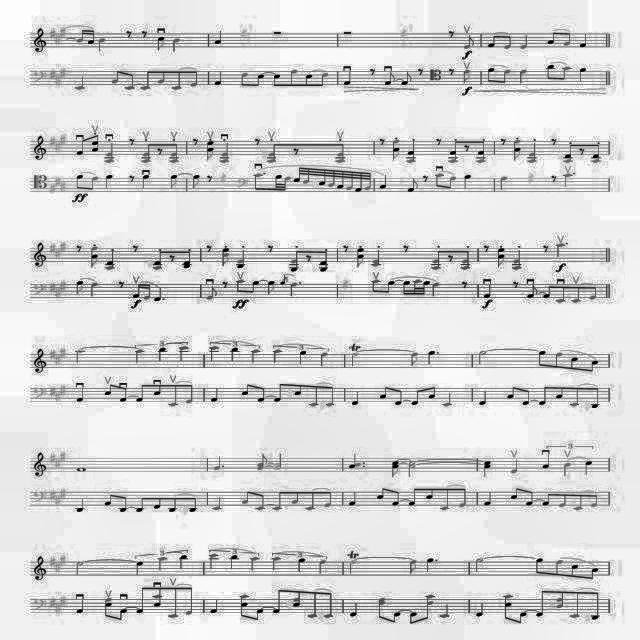Bass-clef: (30, 490, 50, 516), (31, 593, 49, 617), (30, 70, 48, 90), (33, 284, 51, 304), (30, 387, 46, 405), (238, 176, 250, 192)
Eighth-note: (253, 170, 269, 202), (374, 484, 390, 516), (322, 586, 336, 622), (591, 590, 605, 626), (306, 588, 318, 628), (322, 488, 336, 520), (170, 586, 182, 622), (570, 590, 582, 626), (502, 590, 514, 626), (511, 134, 523, 168), (134, 382, 146, 416), (536, 586, 548, 620), (253, 596, 267, 624), (376, 595, 389, 625), (590, 136, 602, 168), (272, 586, 284, 618), (552, 346, 564, 378), (566, 557, 582, 581), (267, 143, 281, 169), (152, 249, 166, 275), (254, 487, 266, 517), (458, 484, 470, 514), (136, 583, 146, 617), (187, 495, 200, 521), (382, 74, 398, 95), (142, 70, 154, 98), (173, 72, 185, 100), (562, 140, 576, 164), (290, 248, 302, 276), (354, 246, 366, 274), (134, 494, 148, 518), (440, 486, 452, 514), (540, 278, 552, 306), (392, 384, 404, 411), (548, 27, 558, 59), (309, 382, 319, 414), (185, 586, 195, 618), (239, 588, 249, 620), (90, 243, 102, 269), (319, 248, 331, 274), (272, 489, 284, 515), (536, 346, 548, 372), (590, 383, 602, 409), (532, 556, 546, 578), (427, 249, 441, 271), (476, 139, 486, 169), (402, 70, 414, 94), (168, 383, 180, 407), (392, 456, 404, 480), (104, 596, 116, 620), (588, 355, 600, 379), (568, 384, 580, 408), (554, 556, 566, 580), (389, 136, 399, 164), (449, 138, 459, 166), (235, 278, 249, 298), (153, 586, 163, 614), (293, 586, 303, 614), (590, 564, 604, 584), (304, 491, 316, 514), (542, 491, 554, 514), (486, 31, 498, 53), (288, 68, 300, 90), (125, 72, 136, 96), (142, 144, 154, 166), (327, 386, 338, 410), (256, 451, 268, 473), (568, 353, 580, 375), (558, 491, 570, 513), (408, 488, 419, 512), (424, 485, 436, 507), (497, 245, 508, 269), (572, 286, 584, 308), (257, 384, 267, 410), (392, 598, 402, 624), (546, 64, 558, 85), (502, 34, 514, 54), (318, 72, 330, 92), (168, 143, 180, 163), (336, 145, 348, 165), (264, 280, 276, 300), (240, 382, 252, 402), (294, 380, 304, 404), (102, 492, 114, 512), (241, 490, 251, 514), (288, 490, 300, 510), (506, 384, 516, 408), (574, 492, 584, 516), (460, 250, 472, 270), (191, 170, 201, 193), (274, 380, 282, 408), (540, 384, 548, 412), (371, 278, 382, 298), (184, 249, 194, 271), (408, 350, 418, 372), (207, 285, 219, 303), (152, 381, 164, 399), (392, 490, 401, 514), (118, 604, 130, 622), (408, 608, 420, 626), (588, 284, 600, 302), (186, 380, 194, 406), (522, 385, 530, 411), (558, 283, 566, 309), (157, 36, 167, 56), (563, 64, 573, 84), (487, 68, 497, 88), (501, 70, 511, 90), (304, 74, 314, 94), (205, 142, 215, 162), (153, 494, 163, 514), (167, 497, 177, 517), (525, 488, 535, 508), (408, 556, 418, 576), (519, 608, 529, 628), (528, 282, 538, 302), (110, 70, 122, 86), (92, 134, 100, 158), (170, 174, 182, 190), (120, 382, 128, 406), (412, 384, 420, 408), (556, 382, 564, 406), (590, 492, 602, 508), (90, 175, 98, 198), (239, 73, 249, 91), (272, 72, 282, 90), (157, 70, 167, 88), (74, 172, 84, 190), (250, 280, 260, 298), (379, 384, 388, 404), (428, 386, 437, 406), (564, 32, 572, 54), (462, 68, 473, 84), (76, 138, 84, 160), (407, 178, 418, 194), (463, 33, 473, 49), (190, 70, 198, 90), (435, 174, 445, 190), (448, 176, 458, 192), (279, 272, 289, 288), (222, 248, 230, 268), (120, 496, 128, 516), (509, 488, 519, 504), (258, 74, 266, 90), (76, 280, 84, 296), (386, 281, 396, 293), (105, 387, 115, 398), (178, 274, 186, 274)
Eighth-rest: (446, 29, 459, 43), (540, 240, 550, 256), (508, 278, 520, 290), (254, 136, 264, 150), (481, 241, 492, 253), (130, 245, 142, 255), (205, 242, 215, 254), (265, 243, 275, 255), (118, 281, 130, 291), (402, 241, 410, 255), (447, 69, 457, 79), (369, 68, 379, 78), (127, 137, 137, 147), (419, 173, 429, 183), (341, 245, 351, 255), (127, 175, 137, 185), (124, 28, 132, 40), (206, 174, 214, 186), (447, 254, 458, 262), (498, 138, 508, 146), (291, 148, 301, 156), (76, 245, 84, 255), (461, 281, 469, 291), (191, 134, 197, 146), (223, 280, 229, 292), (378, 138, 386, 146), (550, 140, 558, 148), (550, 176, 558, 184), (306, 256, 314, 264), (418, 69, 424, 79), (436, 136, 442, 146), (170, 256, 177, 264), (142, 30, 146, 42)
Full-note: (76, 466, 88, 478)
Half-note: (74, 554, 88, 586), (476, 346, 492, 372), (274, 448, 286, 477), (408, 459, 420, 485), (474, 556, 486, 578), (348, 351, 360, 367), (348, 558, 359, 574)
Half-rest: (270, 28, 286, 40), (344, 29, 354, 39)
Quarter-note: (344, 489, 360, 518), (583, 456, 597, 484), (270, 345, 286, 369), (318, 348, 334, 372), (346, 449, 362, 473), (351, 386, 362, 419), (104, 245, 116, 275), (212, 496, 228, 518), (156, 550, 170, 574), (209, 596, 223, 620), (561, 458, 575, 482), (474, 601, 488, 625), (219, 142, 233, 166), (98, 31, 110, 58), (516, 32, 532, 52), (176, 344, 192, 364), (526, 144, 538, 170), (407, 142, 419, 166), (480, 456, 492, 480), (440, 602, 456, 620), (297, 347, 311, 367), (171, 35, 183, 57), (104, 143, 116, 165), (237, 250, 250, 270), (485, 493, 495, 519), (427, 348, 437, 374), (214, 32, 226, 52), (518, 68, 530, 88), (578, 66, 590, 86), (74, 347, 86, 367), (155, 345, 167, 365), (250, 347, 262, 367), (270, 554, 282, 574), (513, 248, 523, 272), (140, 175, 154, 191), (134, 556, 144, 578), (511, 455, 521, 477), (373, 246, 383, 268), (342, 73, 354, 91), (90, 280, 102, 298), (135, 347, 147, 365), (350, 602, 362, 620), (579, 30, 589, 50), (380, 172, 390, 192), (231, 348, 241, 368), (209, 552, 219, 572), (425, 554, 435, 574), (76, 495, 85, 517), (500, 176, 512, 192), (208, 346, 220, 362), (210, 386, 218, 410), (443, 388, 451, 412), (289, 282, 299, 300), (318, 558, 327, 578), (432, 282, 442, 300), (214, 455, 222, 477), (180, 549, 188, 571), (230, 552, 238, 574), (215, 70, 225, 86), (75, 76, 85, 92), (464, 174, 474, 190), (156, 286, 164, 306), (76, 388, 86, 404), (251, 556, 261, 572), (297, 558, 307, 574), (75, 599, 85, 615), (479, 388, 487, 408), (542, 456, 552, 472), (483, 283, 493, 299), (106, 173, 114, 190), (564, 174, 572, 190), (557, 244, 565, 258)
Quarter-rest: (240, 29, 252, 43), (525, 174, 537, 186), (343, 278, 355, 290), (401, 28, 412, 40), (220, 173, 228, 185)
Sixteenth-note: (554, 585, 568, 609), (401, 278, 411, 298), (88, 24, 96, 48), (76, 30, 86, 48), (145, 282, 151, 302), (135, 284, 141, 300)
Treble-clef: (32, 238, 48, 276), (28, 27, 48, 54), (29, 349, 47, 378), (29, 557, 49, 583), (32, 450, 49, 480)
